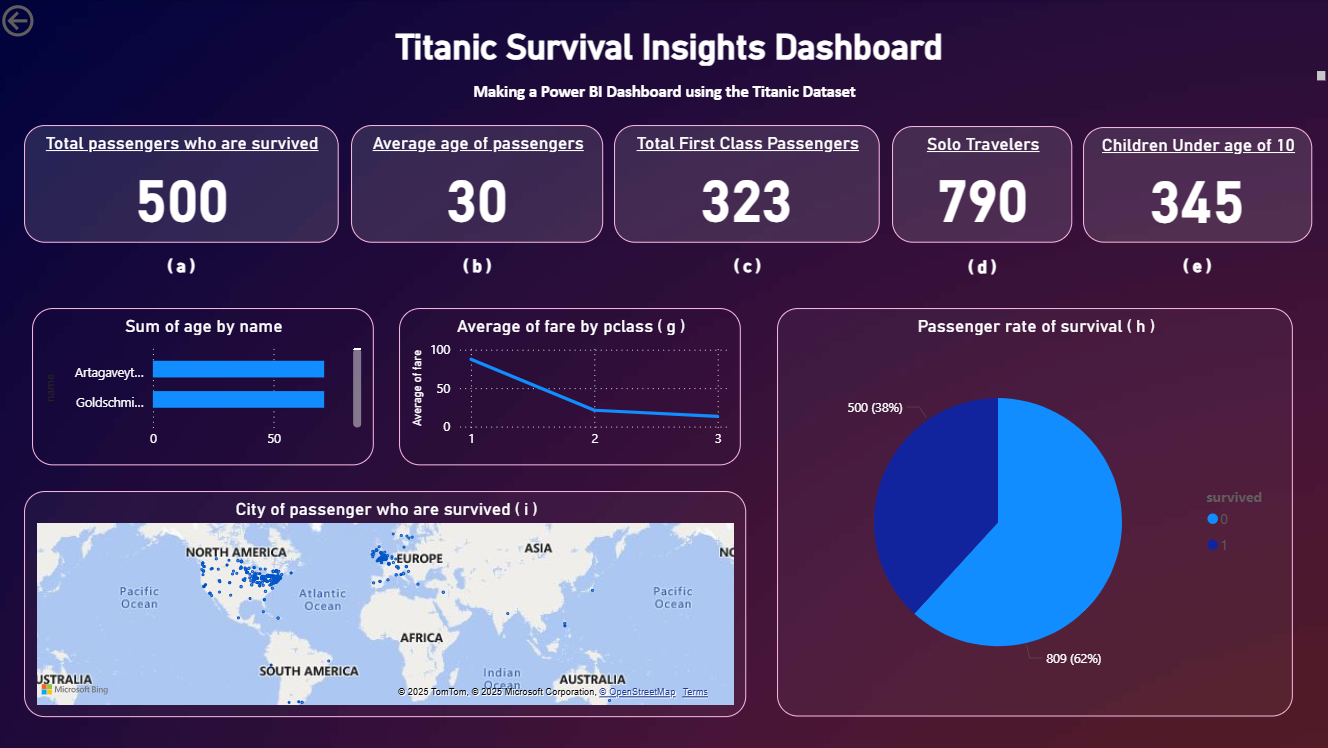

The page's visual inventory and layout, read from the dashboard file:
{"tool":"powerbi","page":{"name":"Page 1","canvas":[1280,720],"ordinal":0},"visuals":[{"type":"textbox","title":"Titanic Survival Insights Dashboard","box":[9.7,20.4,1270.3,62.2],"z":0},{"type":"card","title":"Total passengers who are survived","fields":{"Values":["titanic.survived"]},"box":[26.3,119.7,301.5,112.8],"z":1000},{"type":"card","title":"Average age of passengers","fields":{"Values":["titanic.age"]},"box":[339.5,119.7,242.2,112.8],"z":2000},{"type":"card","title":"Total First Class Passengers","fields":{"Values":["titanic.name"]},"box":[592.3,119.7,254.8,112.8],"z":3000},{"type":"actionButton","box":[0,0,100,40],"z":4000},{"type":"textbox","title":"( a )","box":[154.7,245.1,44.7,25.3],"z":5000},{"type":"textbox","title":"( b )","box":[438.6,245.1,44.7,25.3],"z":6000},{"type":"textbox","title":"( c )","box":[697.4,245.1,44.7,25.3],"z":7000},{"type":"card","title":"Solo Travelers","fields":{"Values":["titanic.name"]},"box":[858.8,120.6,173.1,111.9],"z":8000},{"type":"textbox","title":"( d )","box":[923,246.1,44.7,25.3],"z":9000},{"type":"card","title":"Children Under age of 10","fields":{"Values":["titanic.name"]},"box":[1041.7,121.6,219.8,110.9],"z":10000},{"type":"textbox","title":"( e )","box":[1129.2,245.1,44.7,25.3],"z":11000},{"type":"lineChart","title":"Average of fare by pclass ( g )","fields":{"Category":["titanic.pclass"],"Y":["titanic.fare"]},"box":[386.1,295.7,327.8,150.8],"z":13000},{"type":"pieChart","title":"Passenger rate of survival ( h )","fields":{"Category":["titanic.survived"],"Y":["titanic.name"]},"box":[748,295.7,495.1,392],"z":14000},{"type":"map","title":"City of passenger who are survived ( i )","fields":{"Category":["titanic.home.dest"],"Size":["titanic.name"]},"box":[26.3,470.8,693.5,216.9],"z":15000},{"type":"textbox","box":[433.8,72.9,413.4,33.1],"z":16000},{"type":"clusteredBarChart","fields":{"Category":["titanic.name"],"Y":["titanic.age"]},"box":[33.6,295.5,328.2,150.6],"z":16001}]}

Visuals, with their boxes in screenshot pixels (x1, y1, x2, y2), scaled from the page's 1280x720 canvas onto the 1328x748 screenshot:
"Titanic Survival Insights Dashboard" textbox: detection(10, 21, 1327, 86)
"Total passengers who are survived" card: detection(27, 124, 340, 242)
"Average age of passengers" card: detection(352, 124, 604, 242)
"Total First Class Passengers" card: detection(615, 124, 879, 242)
actionButton: detection(0, 0, 104, 42)
"( a )" textbox: detection(161, 255, 207, 281)
"( b )" textbox: detection(455, 255, 501, 281)
"( c )" textbox: detection(724, 255, 770, 281)
"Solo Travelers" card: detection(891, 125, 1071, 242)
"( d )" textbox: detection(958, 256, 1004, 282)
"Children Under age of 10" card: detection(1081, 126, 1309, 242)
"( e )" textbox: detection(1172, 255, 1218, 281)
"Average of fare by pclass ( g )" lineChart: detection(401, 307, 741, 464)
"Passenger rate of survival ( h )" pieChart: detection(776, 307, 1290, 714)
"City of passenger who are survived ( i )" map: detection(27, 489, 747, 714)
textbox: detection(450, 76, 879, 110)
clusteredBarChart - titanic.name x titanic.age: detection(35, 307, 375, 463)
